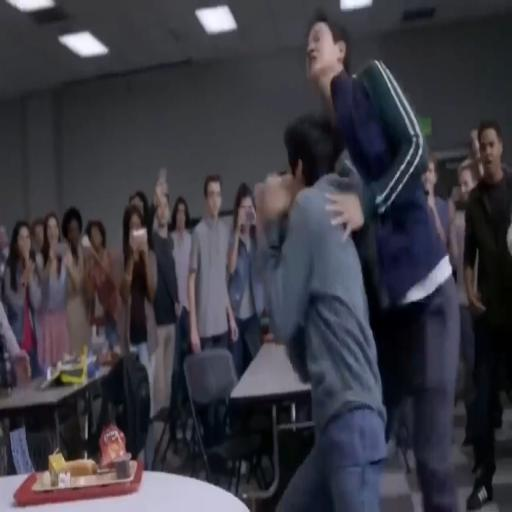violencia: (245, 9, 465, 512)
